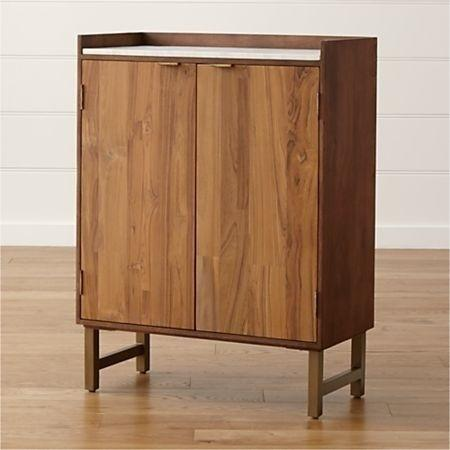cabinet_door: (200, 65, 320, 331), (79, 61, 192, 326)
handle: (208, 62, 234, 73), (157, 60, 182, 71)
